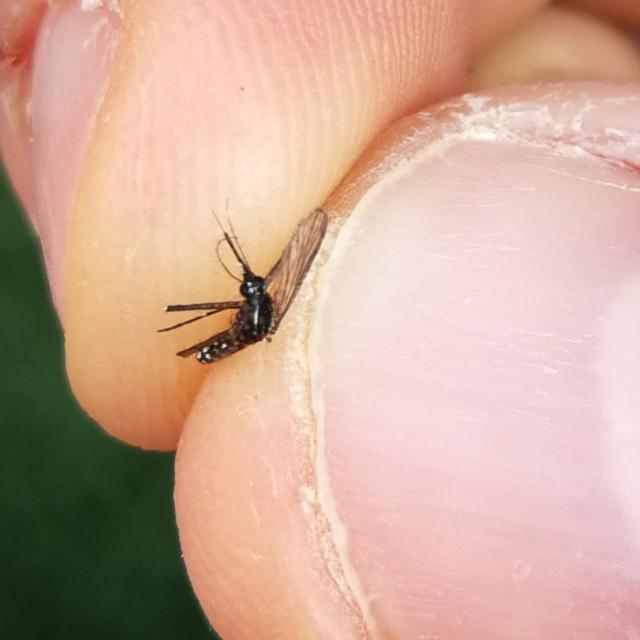albopictus: (154, 190, 325, 371)
